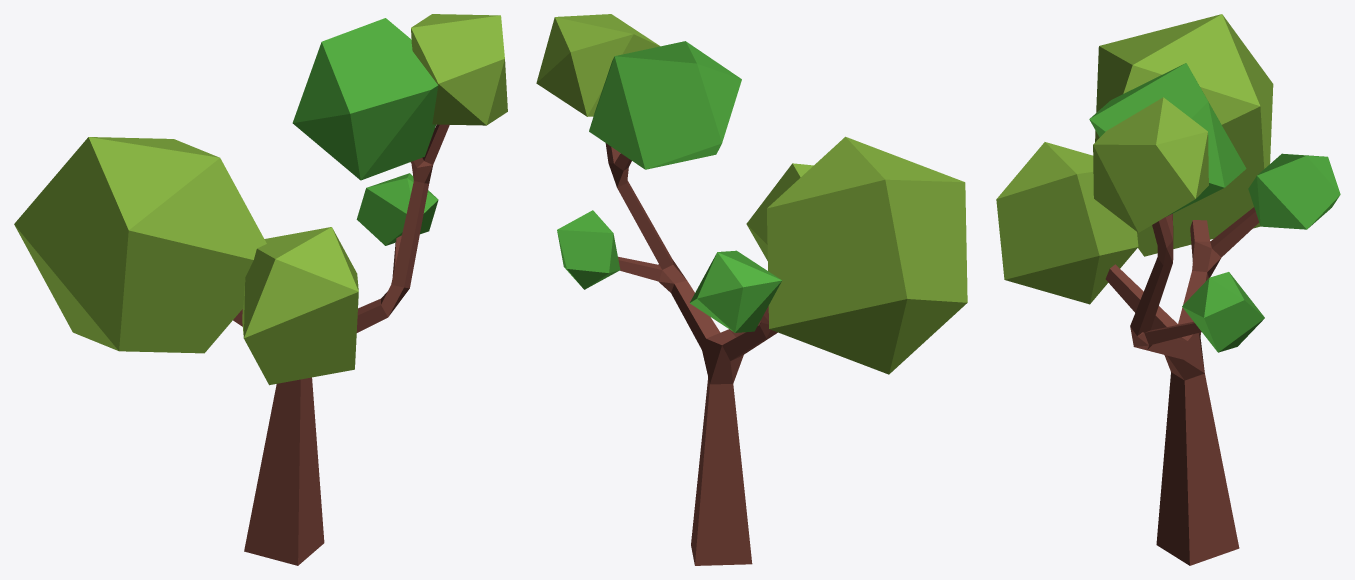
File: Tree0.fbx
3 renders of one model, left to right at view 1: azimuth 30°, elevation 25°; view 2: azimuth 150°, elevation 25°; view 3: azimuth 270°, elevation 25°, orthographic. The views are drawn at different scales.
Parts seen in each view (by area): view 1: Tree0_LOD0; view 2: Tree0_LOD0; view 3: Tree0_LOD0.
Part boxes in pixels (box(x1,y1,x2,y2)): Tree0_LOD0: box(14, 14, 507, 565); Tree0_LOD0: box(536, 14, 967, 565); Tree0_LOD0: box(996, 14, 1340, 565).
Size of what is drawn, in the model's own units: 364 by 412 by 255.
